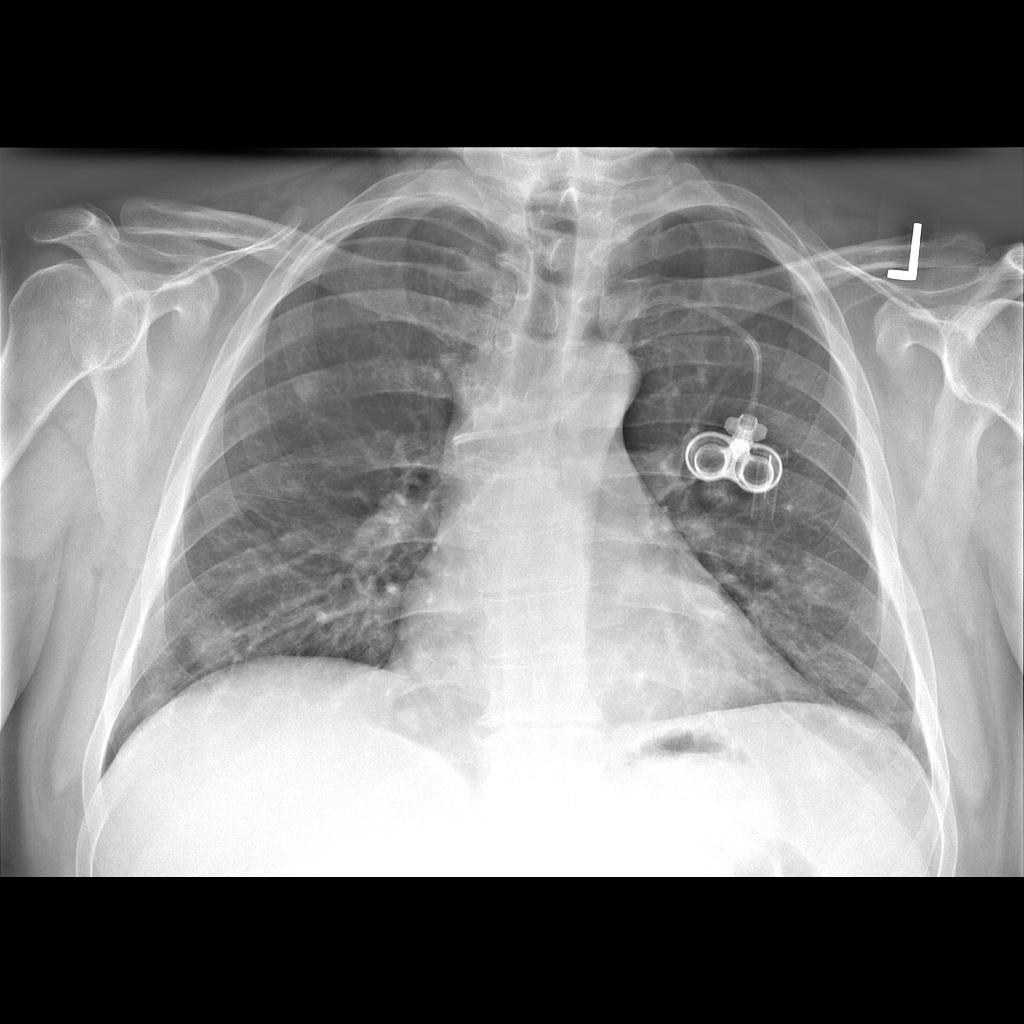Nodule: (799, 577, 835, 610), (274, 531, 313, 558)
